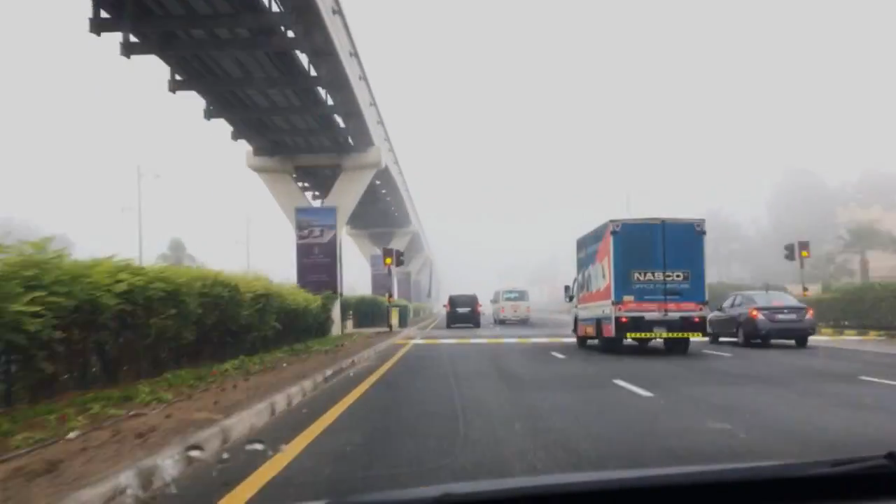bus: (560, 214, 707, 357), (488, 287, 533, 327)
car: (707, 278, 817, 351), (441, 292, 484, 330)
